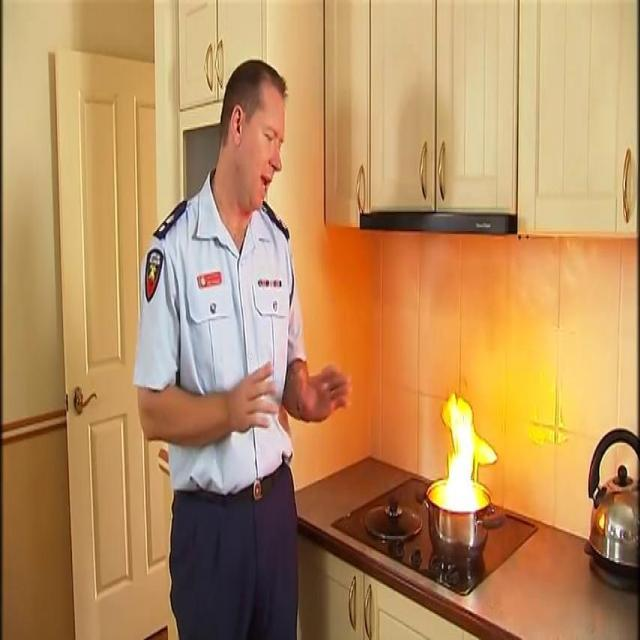fire: (422, 377, 502, 506)
